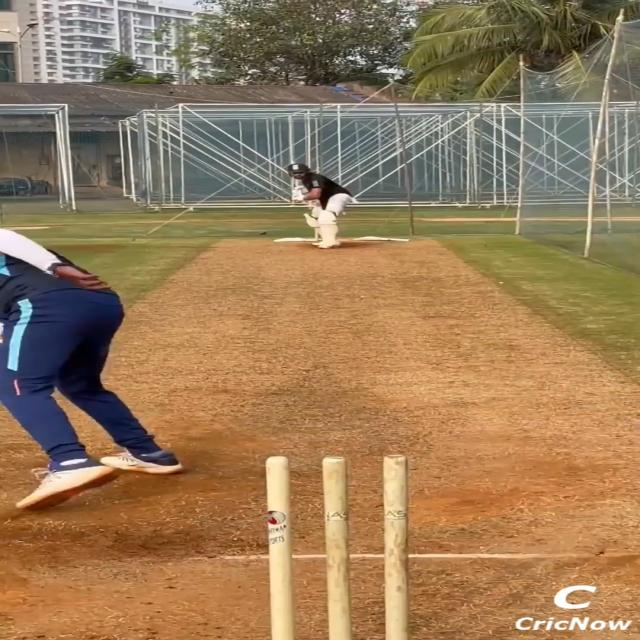Cricket ball: (260, 450, 422, 640), (258, 230, 267, 235)
